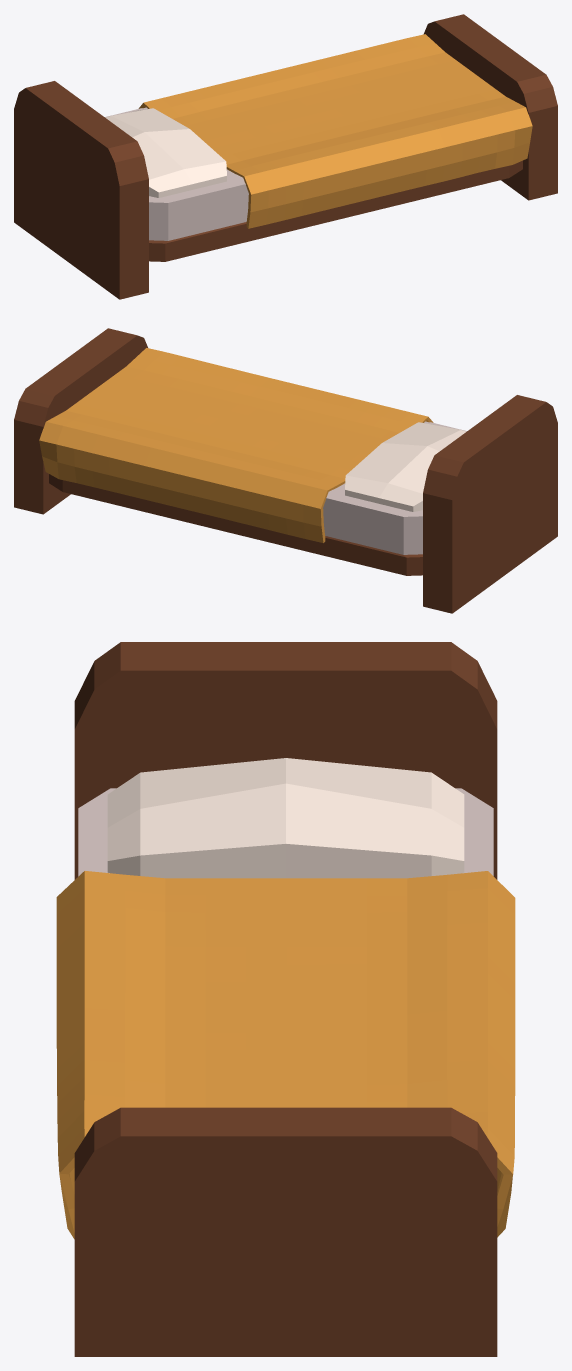
The model's file is WallyBed.fbx.
The picture shows the model from 3 angles, top to bottom: view 1: azimuth 30°, elevation 25°; view 2: azimuth 150°, elevation 25°; view 3: azimuth 270°, elevation 25°; orthographic projection. The views are drawn at different scales.
Parts seen in each view (by area): view 1: Plane, Cube.002, Cube, Cube.001, Cube.003; view 2: Plane, Cube.002, Cube, Cube.001, Cube.003; view 3: Plane, Cube.001, Cube.002, Cube.003, Cube.
Part boxes in pixels (x1,y1,x2,y2): Plane: [138, 34, 532, 228]; Cube.002: [14, 81, 148, 299]; Cube: [105, 107, 522, 261]; Cube.001: [423, 14, 557, 200]; Cube.003: [105, 108, 226, 197]; Plane: [39, 348, 433, 542]; Cube.002: [423, 395, 557, 613]; Cube: [49, 421, 466, 575]; Cube.001: [14, 328, 147, 514]; Cube.003: [345, 422, 466, 511]; Plane: [56, 871, 515, 1239]; Cube.001: [74, 1107, 497, 1356]; Cube.002: [74, 642, 497, 879]; Cube.003: [107, 758, 464, 878]; Cube: [78, 788, 493, 876].
Size of the model in its own units: 575 by 180 by 260.
